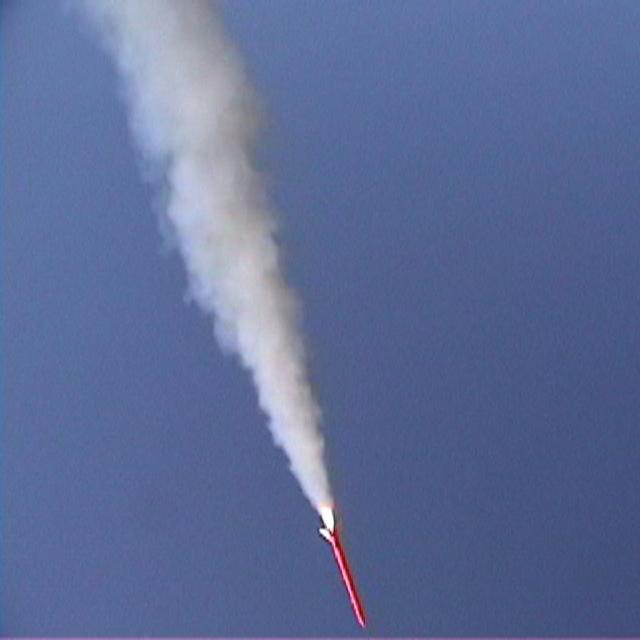missile: (316, 519, 368, 632)
